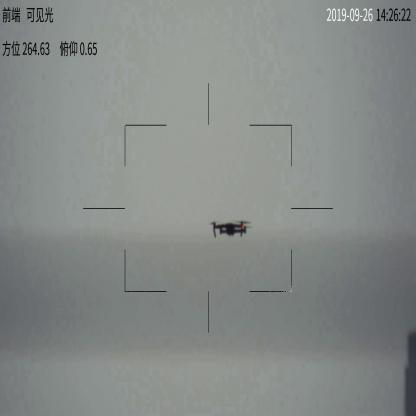uav: (206, 221, 254, 240)
